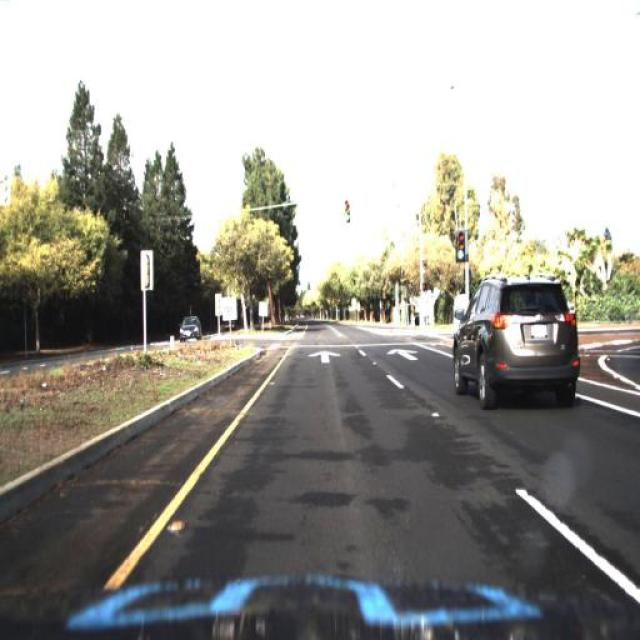car: (452, 277, 582, 412), (172, 310, 206, 346)
trafficLight-Green: (420, 254, 429, 282)
trafficLight-GreenLeft: (454, 233, 468, 265), (341, 206, 353, 230), (343, 198, 352, 224)
